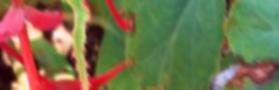Tomato leaf bacterial spot: (187, 0, 279, 90)
